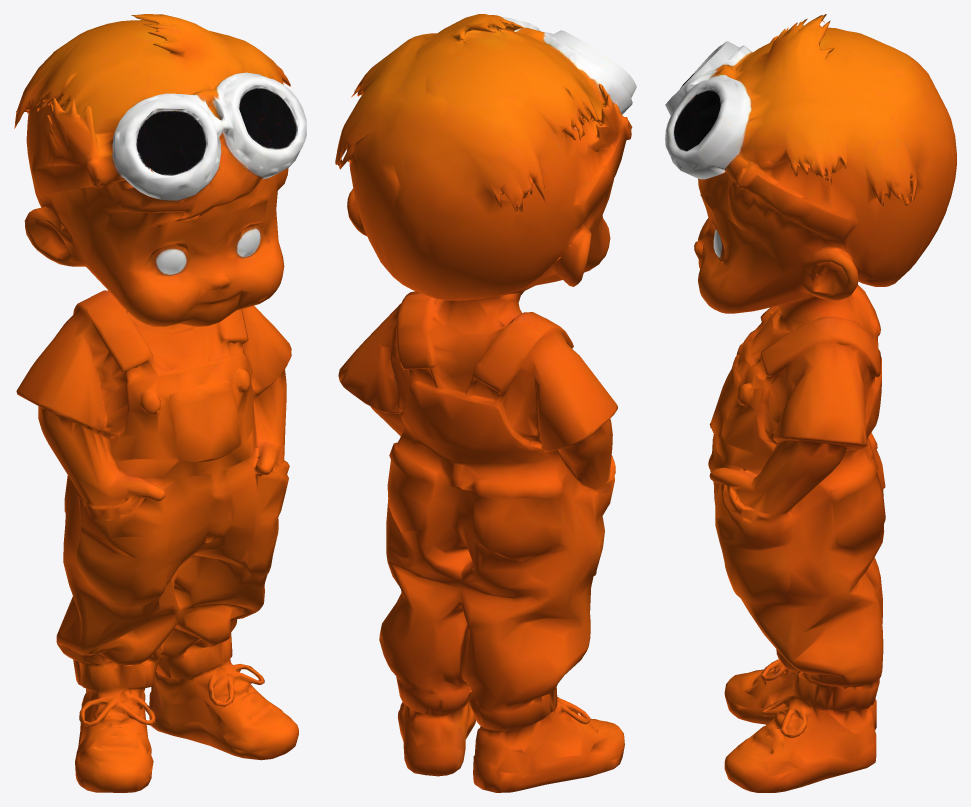
Rendered from clay-maker-buddy.glb.
3 views of the same model, side by side, from view 1: azimuth 30°, elevation 25°; view 2: azimuth 150°, elevation 25°; view 3: azimuth 270°, elevation 25° (orthographic). The views are drawn at different scales.
Size of the model in its own units: 0.6927 by 1.91 by 0.7033.
1 material, 1 textured.
